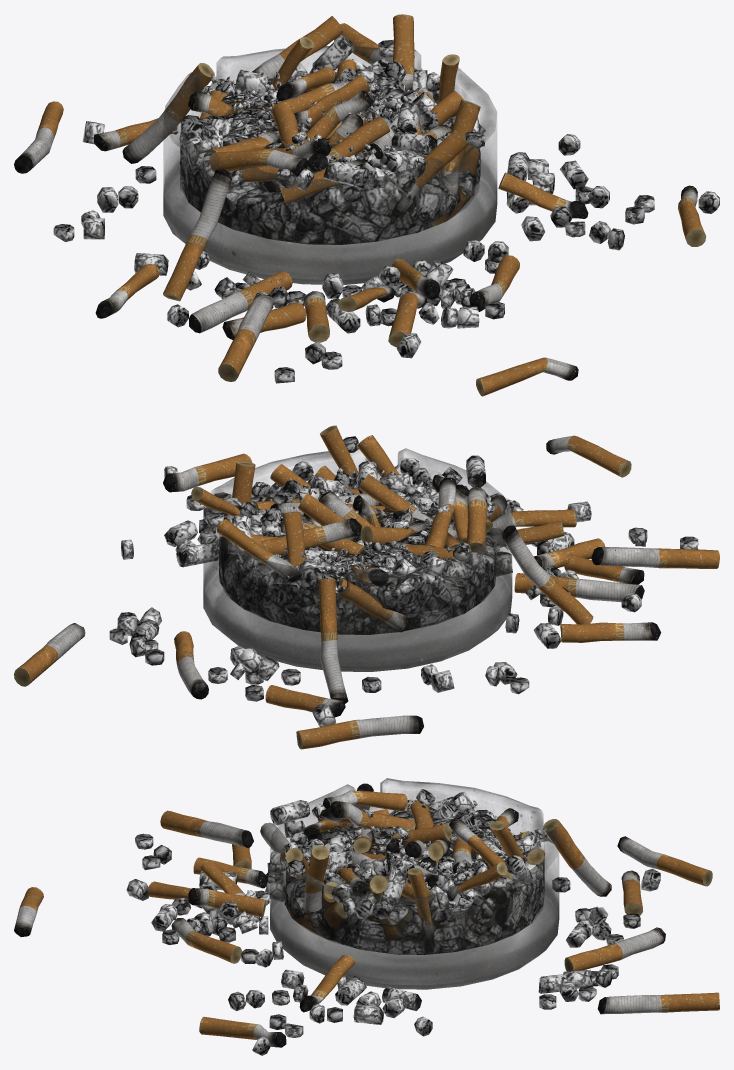
Rendered from ashtray.glb.
3 renders of one model, top to bottom at view 1: azimuth 30°, elevation 25°; view 2: azimuth 150°, elevation 25°; view 3: azimuth 270°, elevation 25°, orthographic. The views are drawn at different scales.
Visible parts, largest first — view 1: Ashtray2; view 2: Ashtray2; view 3: Ashtray2.
Part boxes in pixels (x1,y1,x2,y2): Ashtray2: [14, 14, 719, 396]; Ashtray2: [14, 425, 719, 749]; Ashtray2: [14, 778, 719, 1055].
Size of the model in its own units: 19.15 by 4.45 by 23.35.
3 materials, 3 textured.
